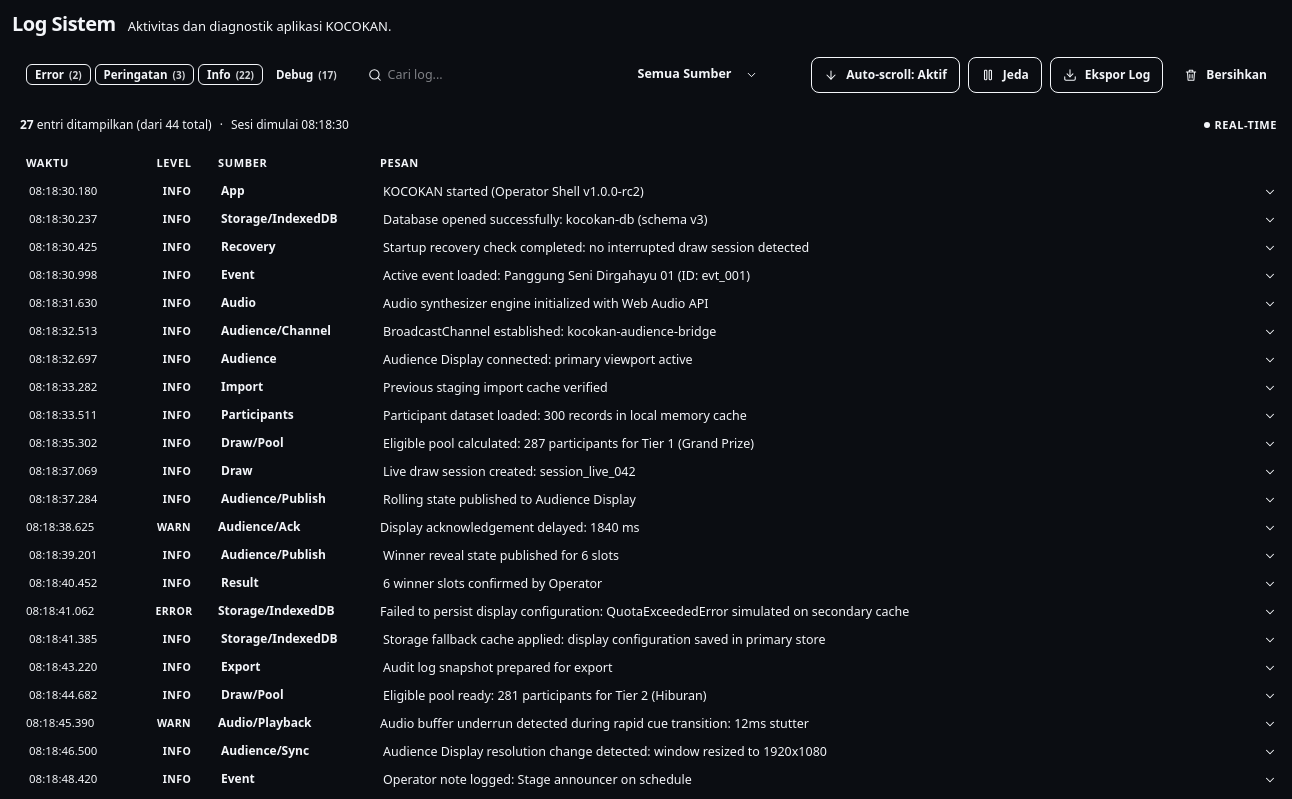
Test: LogPage › expands log row inline to display detail and copy action
The image size is (1292, 799).
# Find row with delayed acknowledgement
Click the text "Display acknowledgement delayed: 1840 ms" at (510,527), box [380,519,640,536]
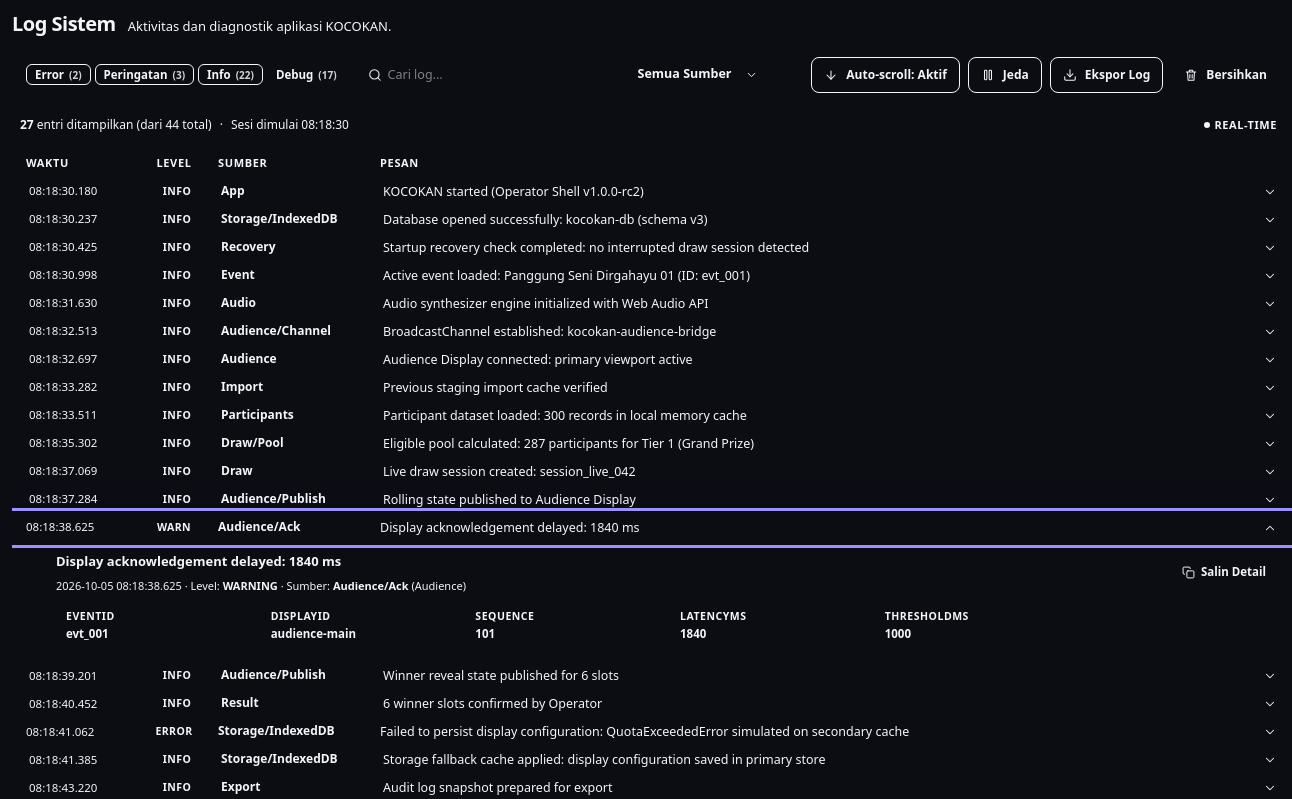
Now the text "displayId" is shown, box [271,609,331,623]
Now the text "audience-main" is shown, box [271,626,356,641]
Now the button "Salin Detail" is shown, box [1172,560,1276,584]
